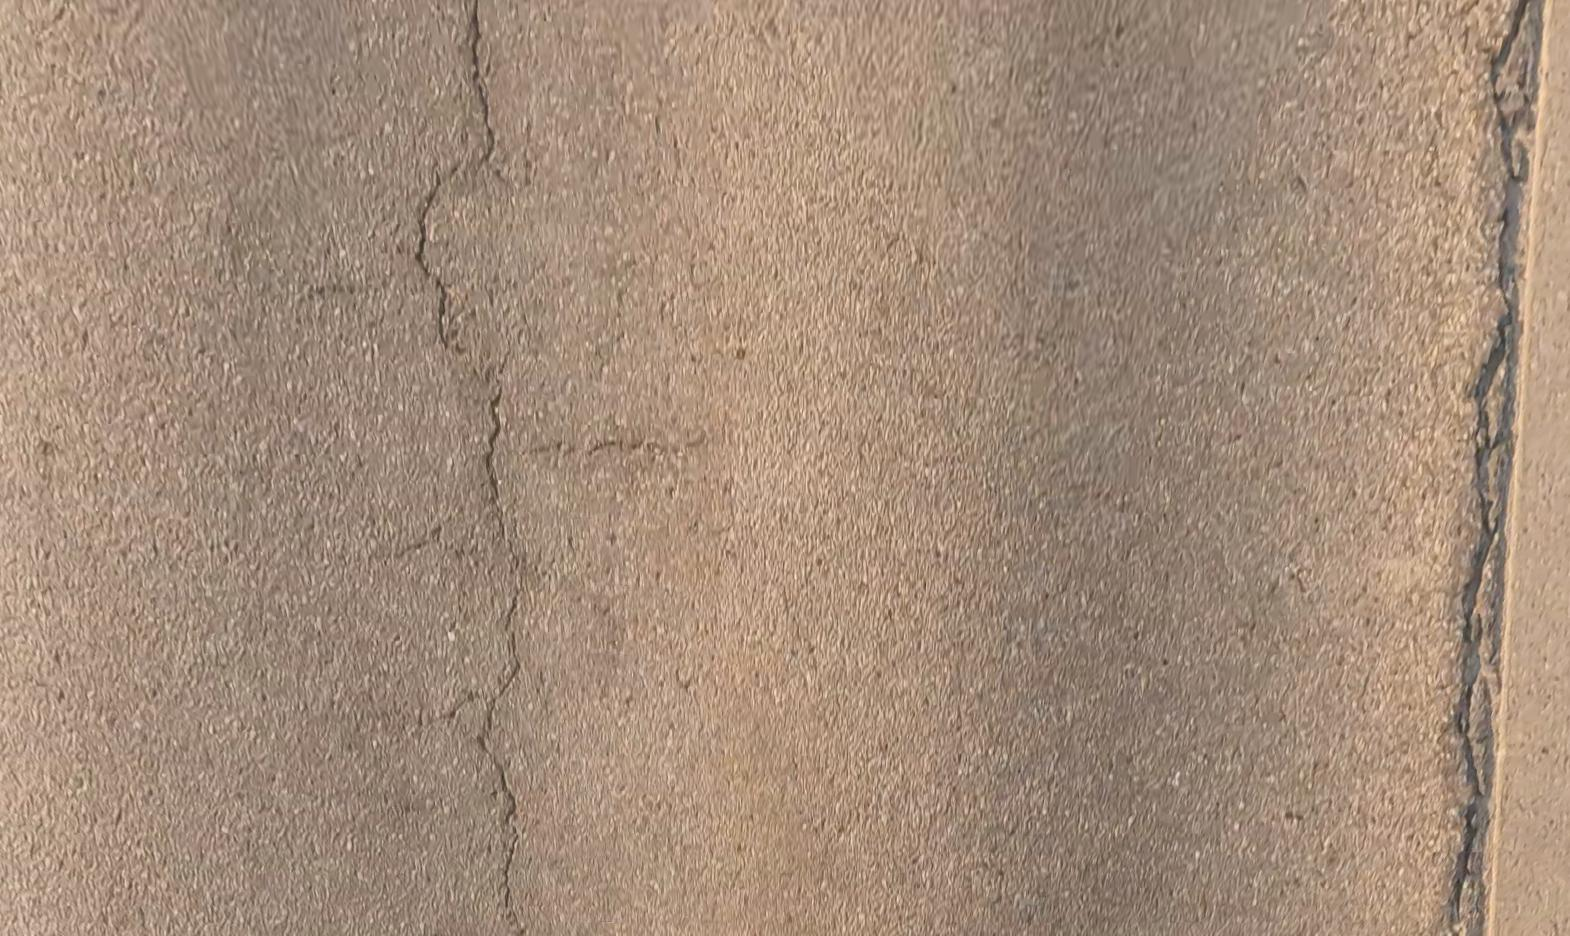pothole: (1503, 108, 1534, 313)
